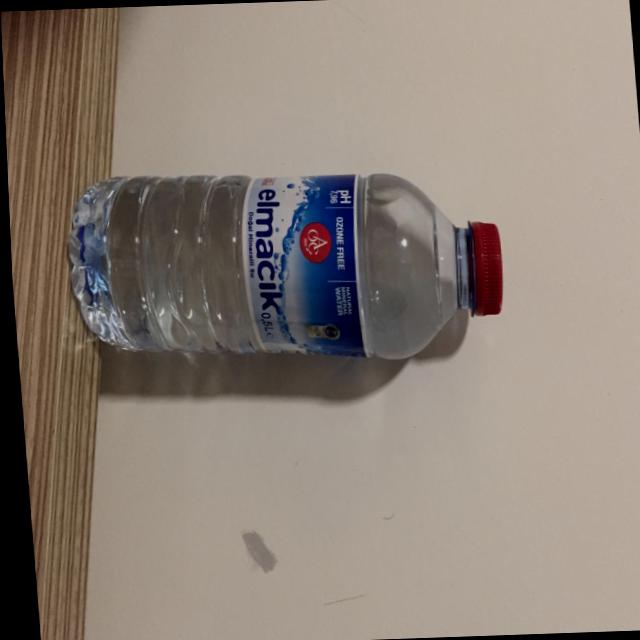anorganik: (53, 168, 520, 370)
